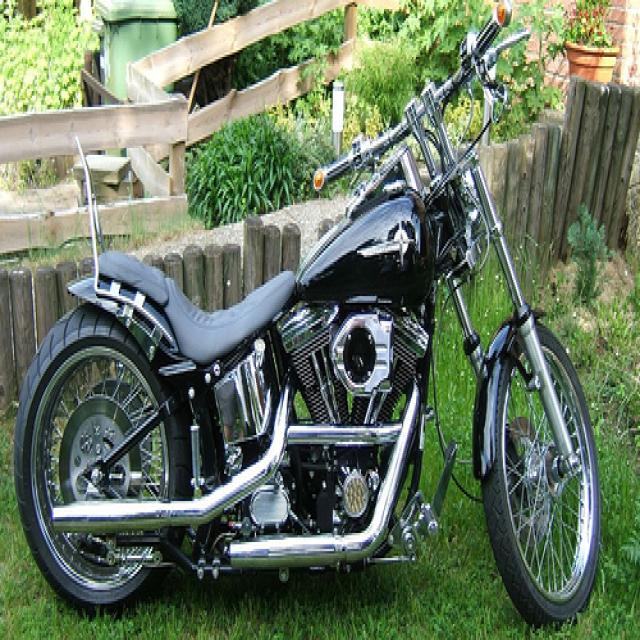motorbike: (11, 1, 603, 625)
pottedplant: (565, 1, 618, 83)
